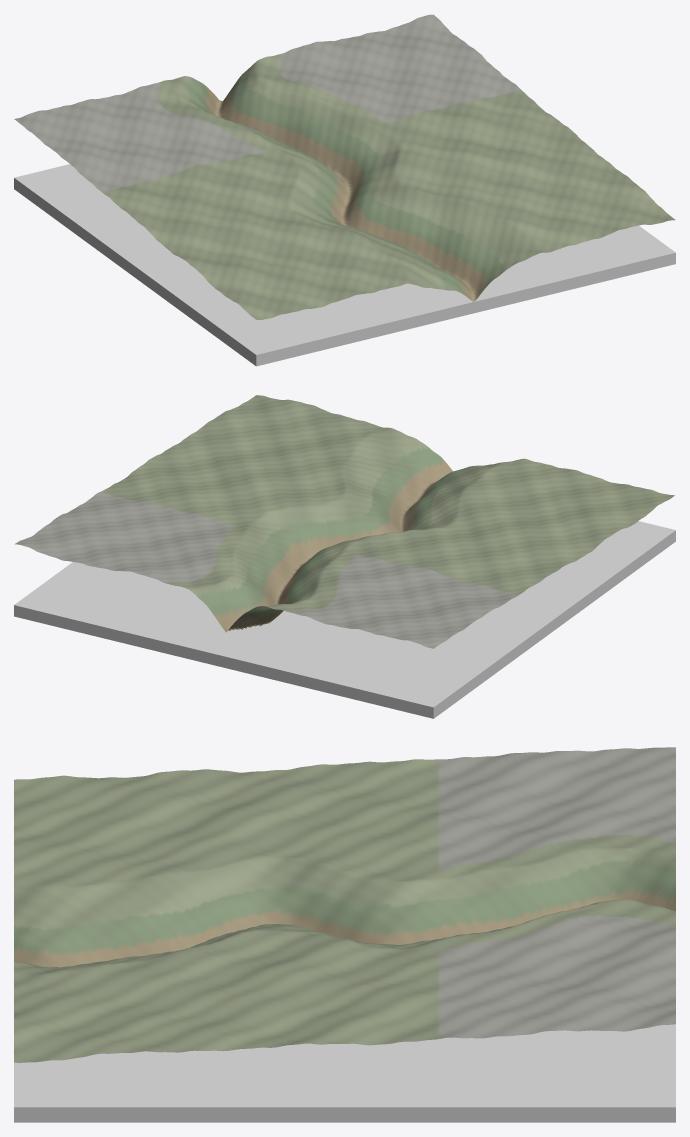
File: river-valley-terrain.glb
The picture shows the model from 3 angles, top to bottom: view 1: azimuth 30°, elevation 25°; view 2: azimuth 150°, elevation 25°; view 3: azimuth 270°, elevation 25°; orthographic projection. The views are drawn at different scales.
Visible parts, largest first — view 1: RiverTerrain, TerrainDatum; view 2: RiverTerrain, TerrainDatum; view 3: RiverTerrain, TerrainDatum.
Boxes of the visible parts, x1,y1,x2,y2 form: RiverTerrain: (14,14,675,319); TerrainDatum: (14,164,675,366); RiverTerrain: (14,395,674,648); TerrainDatum: (14,521,675,718); RiverTerrain: (14,747,675,1062); TerrainDatum: (14,1024,675,1122).
Size of the model in its own units: 25 by 4.18 by 25.
